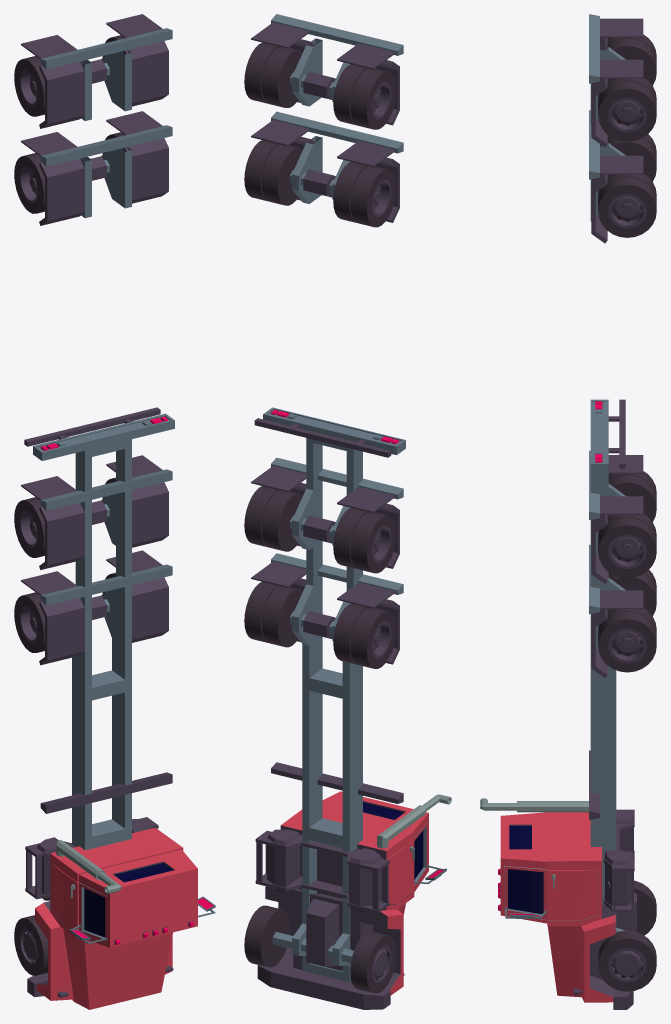
File: 231_Truck.gltf
3 views of the same model, side by side, from view 1: azimuth 30°, elevation 25°; view 2: azimuth 150°, elevation 25°; view 3: azimuth 270°, elevation 25° (orthographic).
Visible parts, largest first — view 1: Truck; view 2: Truck; view 3: Truck.
Boxes of the visible parts, box(x1,y1,x2,y2) form: Truck: box(14, 14, 215, 1009); Truck: box(244, 14, 451, 1009); Truck: box(480, 14, 656, 1009).
Bounding box in the file's own units: 2.32 × 15.67 × 2.68.
Materials: 1 (1 with a texture image).
